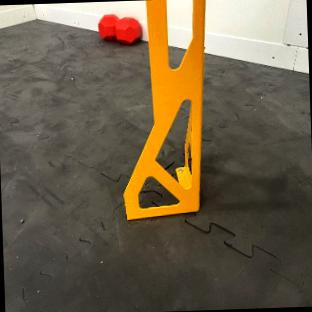Goal: (124, 0, 205, 219)
V5_RED: (99, 14, 141, 44)
